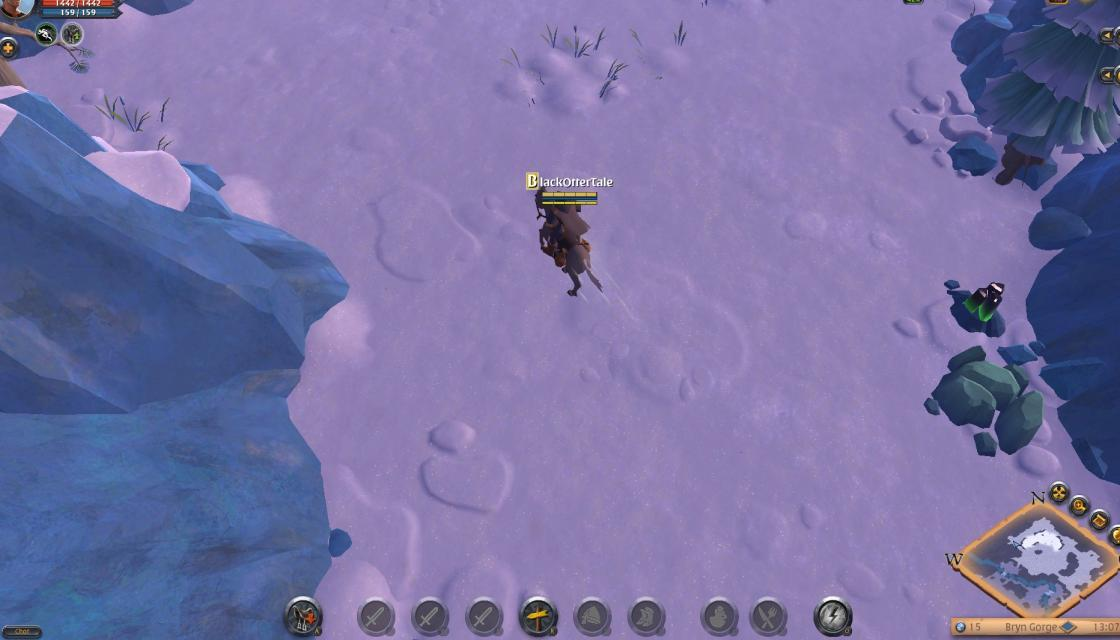sandstone: (922, 348, 1048, 456)
tinore: (950, 278, 1012, 332)
